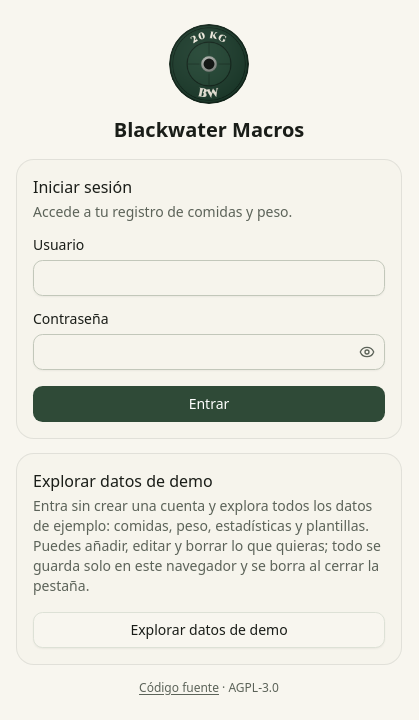
Test: pantalla de inicio de sesión › muestra el error de credenciales y deja reintentar
The image size is (419, 720).
Type "ana" into the field labelled "Usuario".
click(209, 278); type("ana")  # box [33,260,385,296]
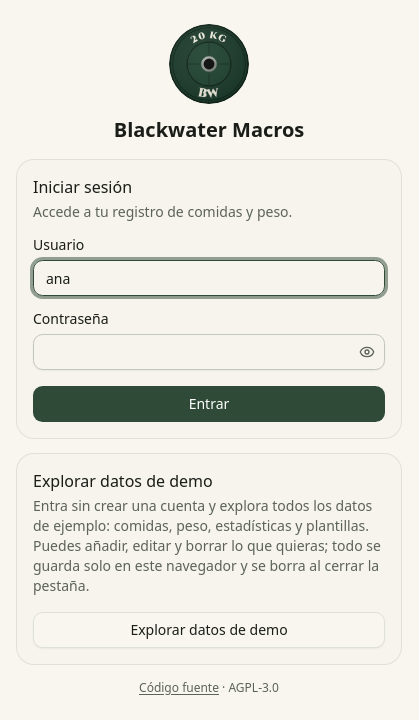
Type "clave" into the password field labelled "Contraseña".
click(209, 352); type("clave")  # box [33,334,385,370]
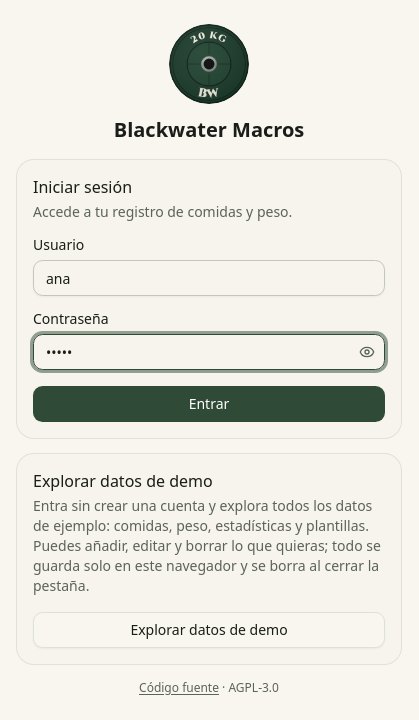
Click the button "Entrar".
click(209, 404)  # box [33,386,385,422]
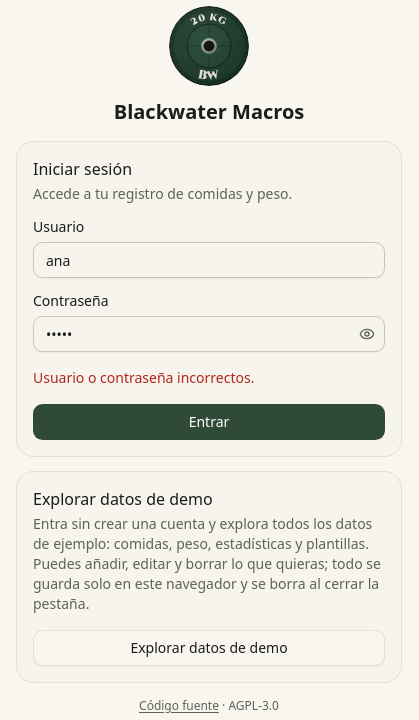
Result: the message reads "Usuario o contraseña incorrectos." at [33,368,254,387]
